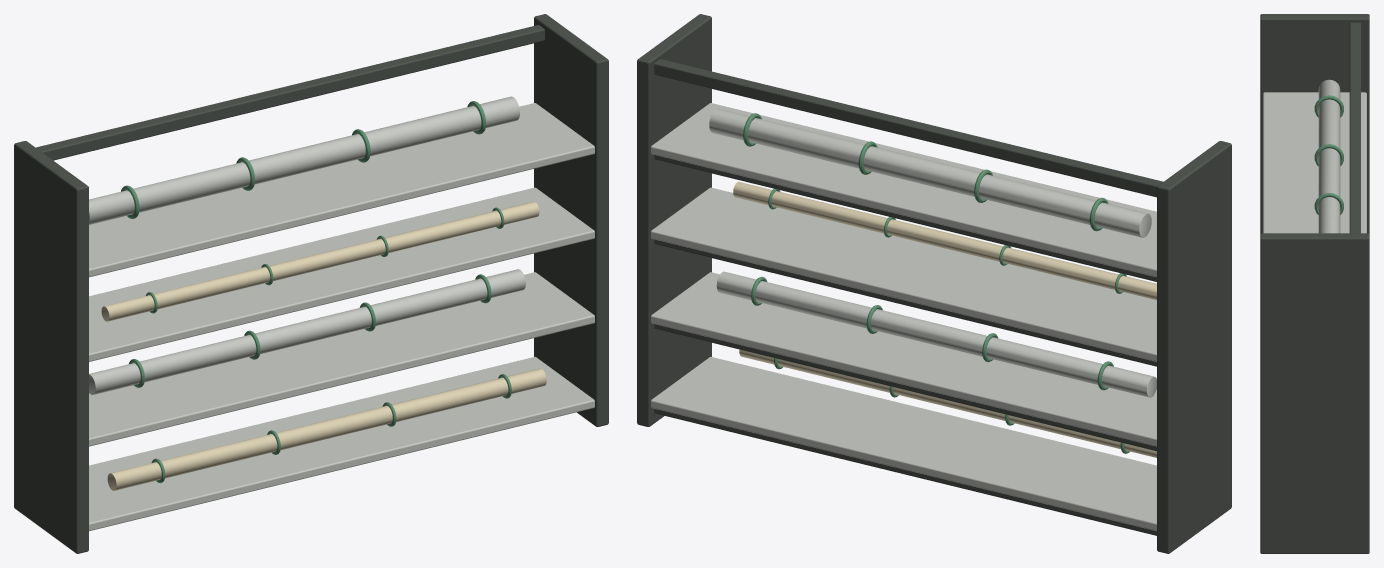
File: miller_plumbing_rack.glb
3 renders of one model, left to right at view 1: azimuth 30°, elevation 25°; view 2: azimuth 150°, elevation 25°; view 3: azimuth 270°, elevation 25°, orthographic. The views are drawn at different scales.
Parts seen in each view (by area): view 1: miller_plumbing_rack_miller_galvanized_steel_pbr, miller_plumbing_rack_miller_blackened_steel_pbr, miller_plumbing_rack_miller_aged_cream_enamel_pbr, miller_plumbing_rack_miller_forest_enamel_pbr; view 2: miller_plumbing_rack_miller_galvanized_steel_pbr, miller_plumbing_rack_miller_blackened_steel_pbr, miller_plumbing_rack_miller_aged_cream_enamel_pbr, miller_plumbing_rack_miller_forest_enamel_pbr; view 3: miller_plumbing_rack_miller_blackened_steel_pbr, miller_plumbing_rack_miller_galvanized_steel_pbr, miller_plumbing_rack_miller_forest_enamel_pbr.
Boxes of the visible parts, box(x1,y1,x2,y2) form: miller_plumbing_rack_miller_galvanized_steel_pbr: box(89, 96, 594, 531); miller_plumbing_rack_miller_blackened_steel_pbr: box(14, 14, 608, 553); miller_plumbing_rack_miller_aged_cream_enamel_pbr: box(101, 201, 546, 490); miller_plumbing_rack_miller_forest_enamel_pbr: box(121, 101, 511, 483); miller_plumbing_rack_miller_galvanized_steel_pbr: box(651, 103, 1156, 531); miller_plumbing_rack_miller_blackened_steel_pbr: box(637, 14, 1231, 553); miller_plumbing_rack_miller_aged_cream_enamel_pbr: box(733, 182, 1156, 457); miller_plumbing_rack_miller_forest_enamel_pbr: box(743, 113, 1129, 453); miller_plumbing_rack_miller_blackened_steel_pbr: box(1260, 14, 1369, 553); miller_plumbing_rack_miller_galvanized_steel_pbr: box(1263, 79, 1366, 233); miller_plumbing_rack_miller_forest_enamel_pbr: box(1314, 95, 1343, 214).
Bounding box in the file's own units: 3.69 × 2.42 × 0.76.
